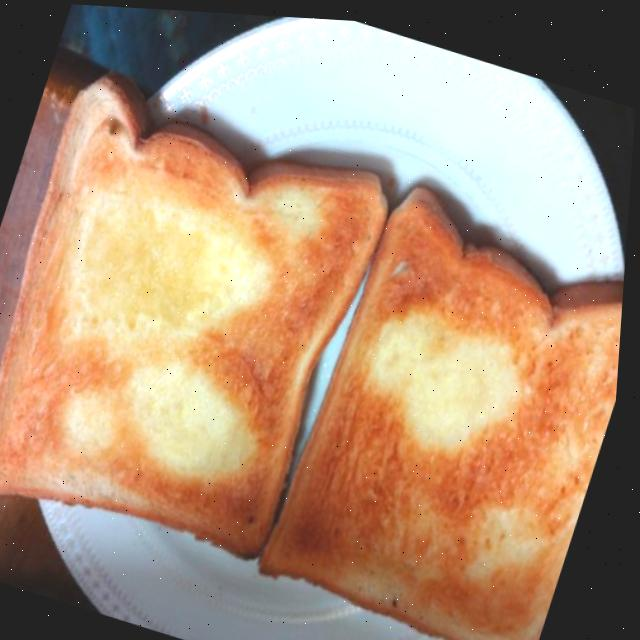面包点心: (0, 63, 406, 596), (239, 158, 632, 640)
